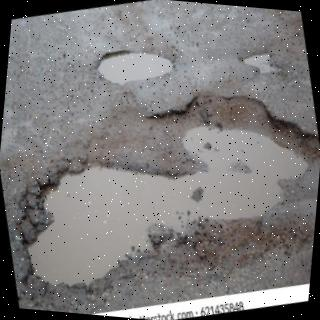pothole: (27, 96, 320, 287), (98, 50, 173, 85)
